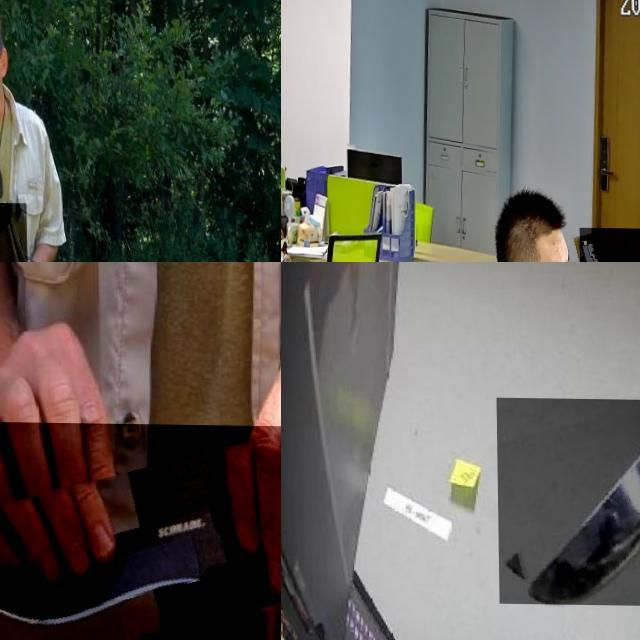-: (0, 421, 281, 640), (495, 396, 640, 606), (0, 201, 38, 262)
gun-knife-thesis - v11 Yolov5 augmented: (578, 226, 640, 262)
